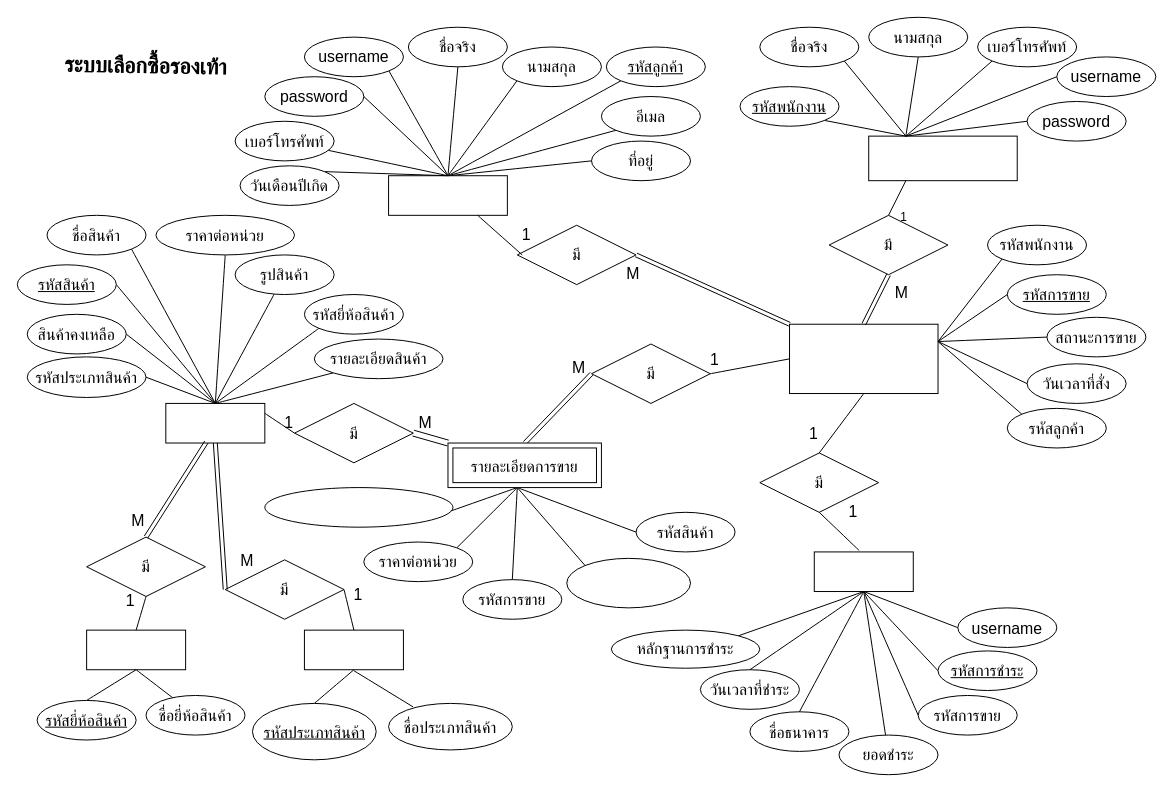
The diagram is 1173 pixels wide and 792 high, and some of its shapes have lost their labels. Each missing label, with the box of its shape:
การขาย: (789, 323, 938, 394)
การชำระ: (813, 551, 913, 592)
จำนวน: (566, 557, 691, 608)
ประเภทสินค้า: (303, 629, 403, 670)
พนักงาน: (868, 135, 1017, 181)
ยี่ห้อ: (86, 629, 186, 670)
รหัสรายละเอียดการขาย: (264, 487, 453, 527)
ลูกค้า: (388, 175, 507, 215)
สินค้า: (165, 402, 265, 443)
